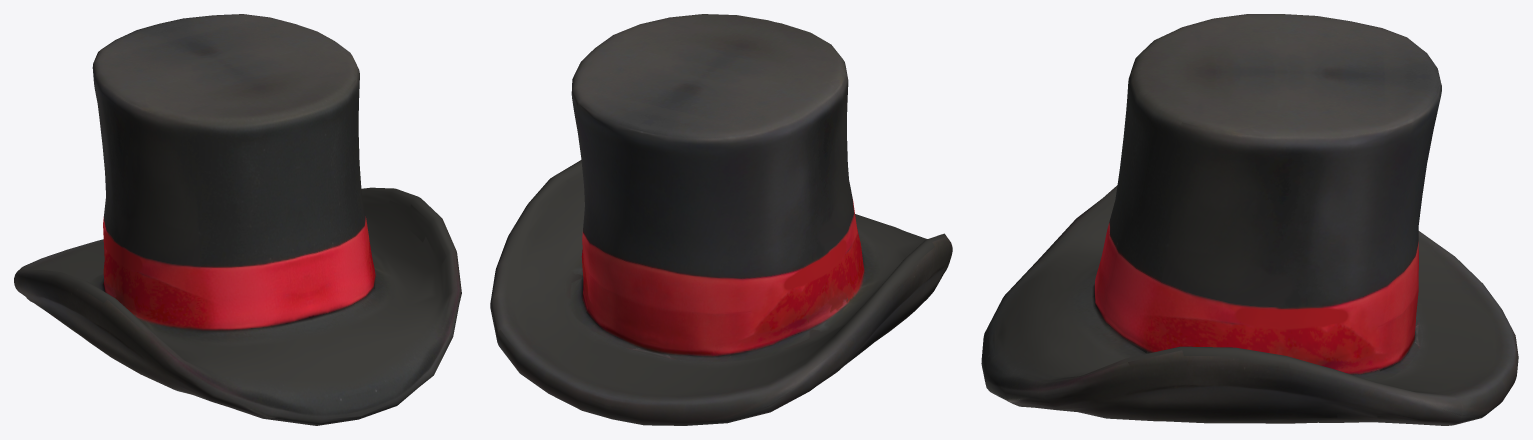
File: Top-Hat-v3.glb
3 renders of one model, left to right at view 1: azimuth 30°, elevation 25°; view 2: azimuth 150°, elevation 25°; view 3: azimuth 270°, elevation 25°, orthographic. The views are drawn at different scales.
Visible parts, largest first — view 1: Top-Hat-v3; view 2: Top-Hat-v3; view 3: Top-Hat-v3.
Boxes of the visible parts, x1=… form: Top-Hat-v3: x1=14, y1=14, x2=461, y2=425; Top-Hat-v3: x1=490, y1=14, x2=952, y2=425; Top-Hat-v3: x1=981, y1=14, x2=1518, y2=425.
Size of the model in its own units: 0.5232 by 0.3771 by 0.5982.
Materials: 1 (1 with a texture image).
